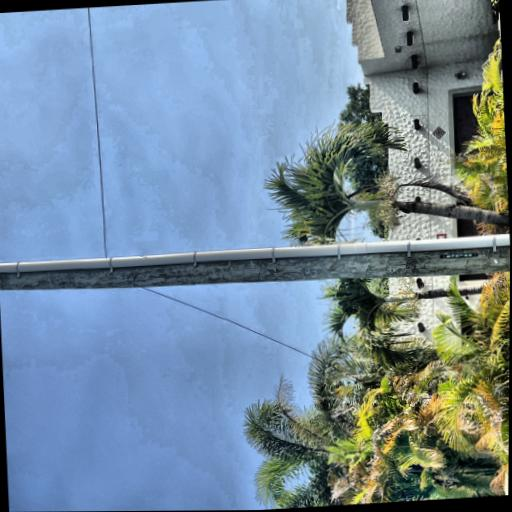pole: (81, 5, 162, 511)
